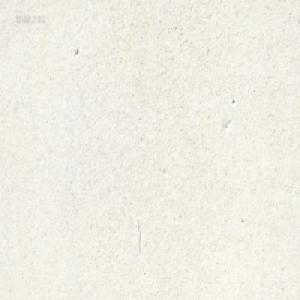Wrench: (142, 0, 148, 4)
